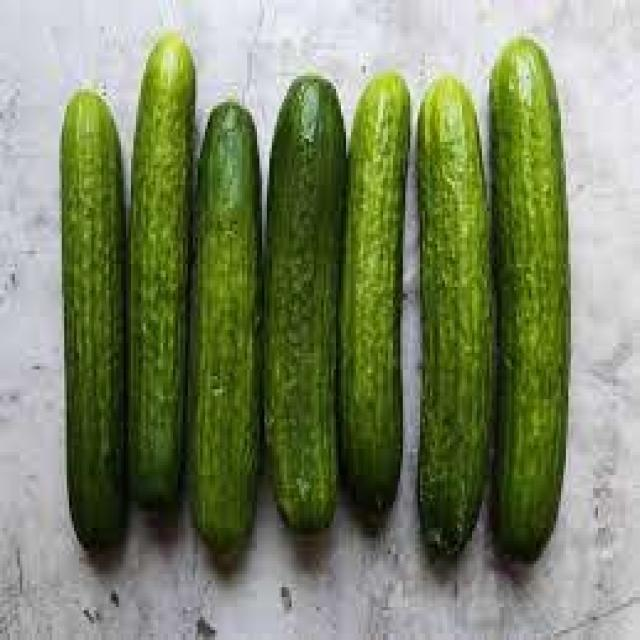cucumber: (489, 39, 573, 570), (414, 70, 498, 566), (262, 76, 352, 534), (189, 98, 266, 558), (128, 37, 196, 511), (340, 65, 409, 528), (62, 90, 125, 562)
